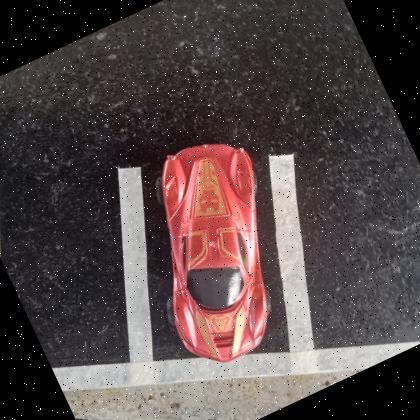Car: (162, 144, 270, 364)
